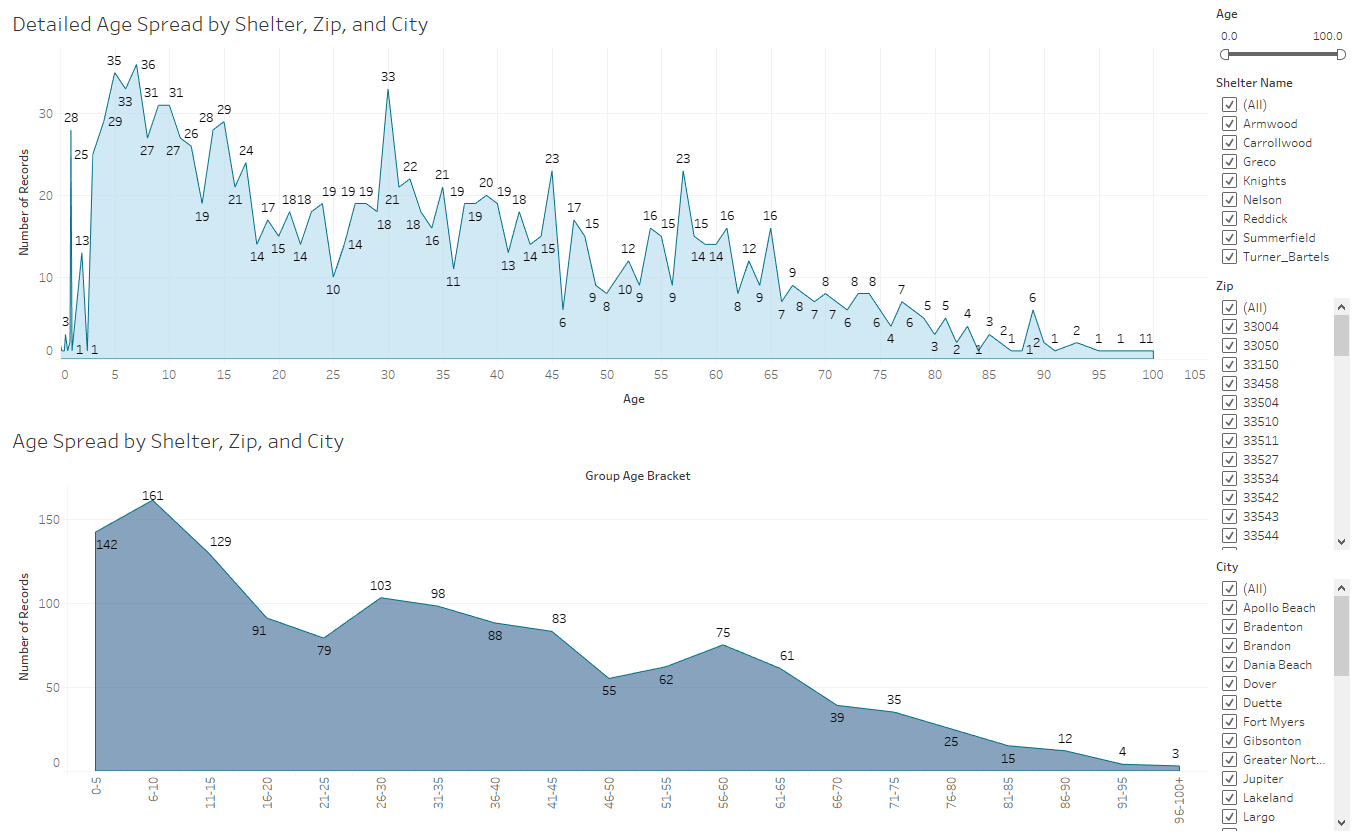

Layout of this report page (visuals, bound fields, positions):
{"tool":"tableau","page":{"name":"Age Spread by Shelter, Zip, and City","canvas":[1366,850],"ordinal":1},"visuals":[{"type":"worksheet","title":"Detailed Age Spread by Shelter, Zip, and City","mark":"Area","rows":["Number of Records"],"cols":["Age"],"box":[8,8,1208,417]},{"type":"filter","title":"Detailed Age Spread by Shelter, Zip, and City","param":"[federated.15be31n0i91izv1g0m27v0riro1y].[none:Age:qk]","box":[1216,8,142,69]},{"type":"filter","title":"Detailed Age Spread by Shelter, Zip, and City","param":"[federated.15be31n0i91izv1g0m27v0riro1y].[none:shelter_name:nk]","box":[1216,77,142,203]},{"type":"filter","title":"Detailed Age Spread by Shelter, Zip, and City","param":"[federated.15be31n0i91izv1g0m27v0riro1y].[none:Zip:ok]","box":[1216,280,142,281]},{"type":"worksheet","title":"Age Spread by Shelter, Zip, and City ","mark":"Area","rows":["Number of Records"],"cols":["Group Age Bracket"],"box":[8,425,1208,417]},{"type":"filter","title":"Detailed Age Spread by Shelter, Zip, and City","param":"[federated.15be31n0i91izv1g0m27v0riro1y].[none:City:nk]","box":[1216,561,142,281]}]}

Visuals, with their boxes in screenshot pixels (x1, y1, x2, y2), scaled from the page's 1366x850 canvas onto the 1361x840 screenshot:
"Detailed Age Spread by Shelter, Zip, and City" worksheet (Area marks): 8 8 1212 420
"Detailed Age Spread by Shelter, Zip, and City" filter: 1212 8 1353 76
"Detailed Age Spread by Shelter, Zip, and City" filter: 1212 76 1353 277
"Detailed Age Spread by Shelter, Zip, and City" filter: 1212 277 1353 554
"Age Spread by Shelter, Zip, and City " worksheet (Area marks): 8 420 1212 832
"Detailed Age Spread by Shelter, Zip, and City" filter: 1212 554 1353 832
